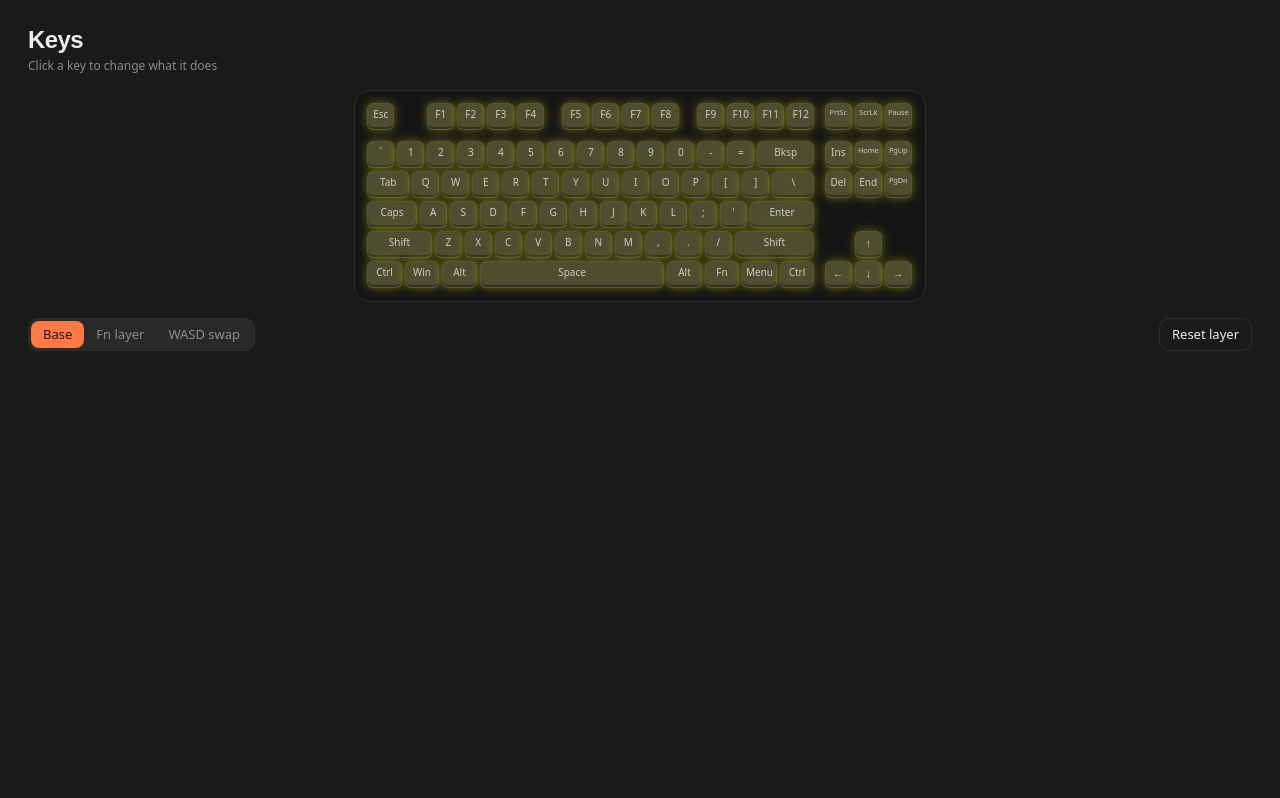
Test: the Fn key is locked on the base layer and the WASD swap, not on the Fn layer
Step 1. Click the radio button labelled "WASD swap" → (204, 334), box [156,320,252,348]
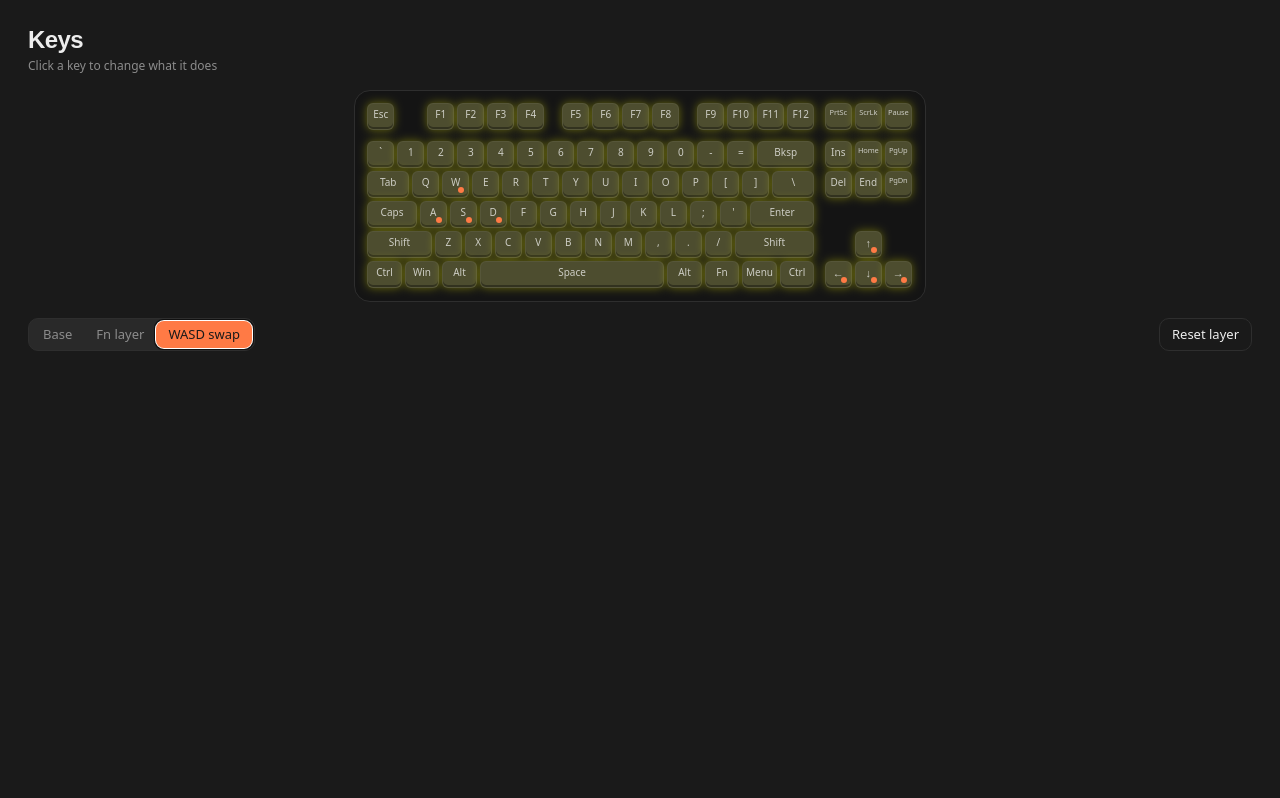
Step 2. Click the button "Fn" → (722, 274), box [705,260,739,288]
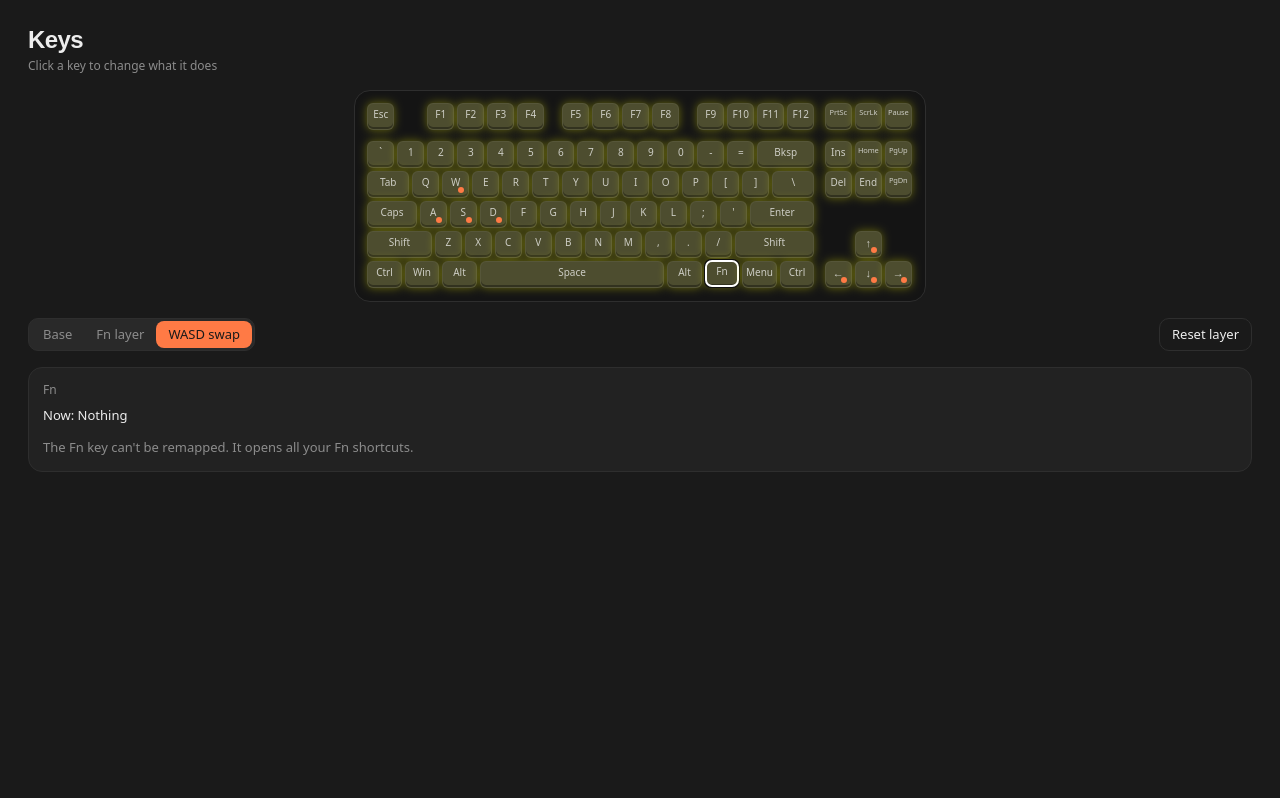
Now the text "can't be remapped" is shown, box [43,438,413,456]
Step 3. Click the radio button labelled "Fn layer" → (120, 334), box [84,320,156,348]
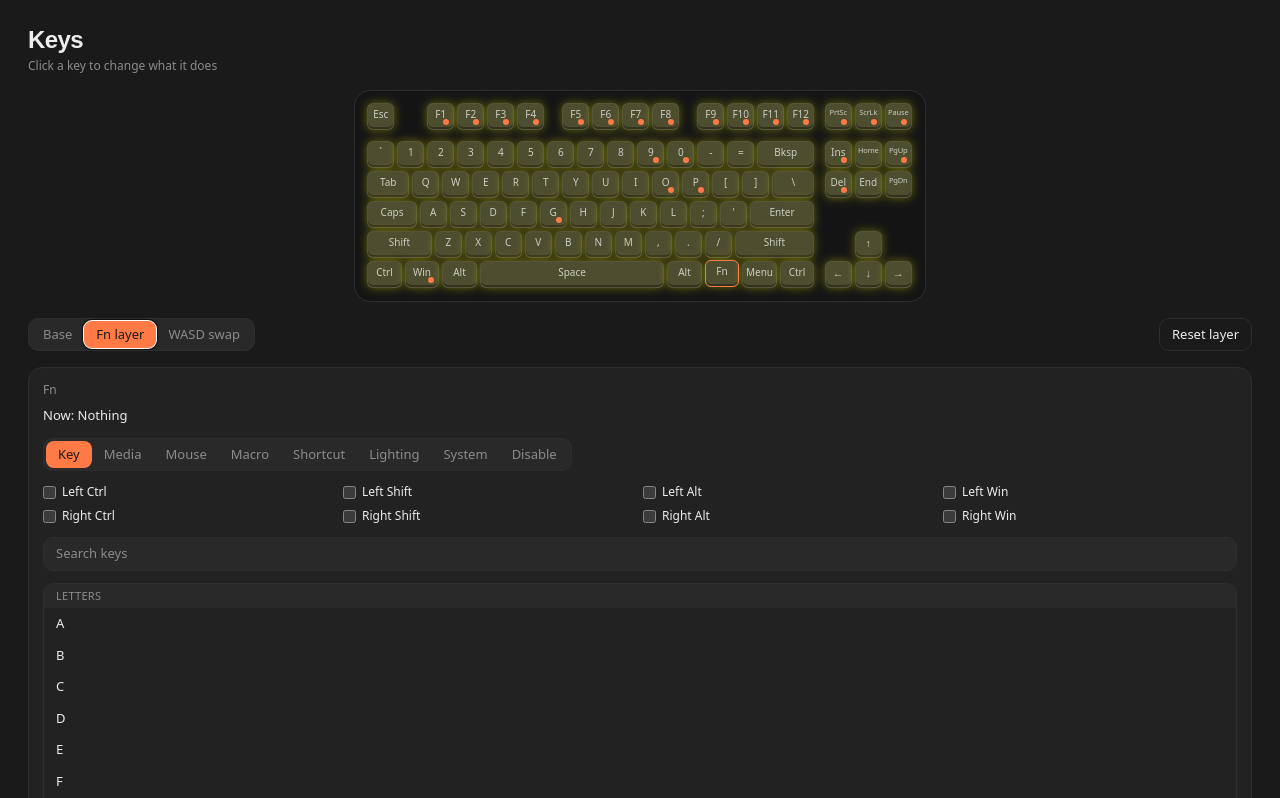
Step 4. Click the button "Fn" → (722, 273), box [705,260,739,286]
(page scrolled)
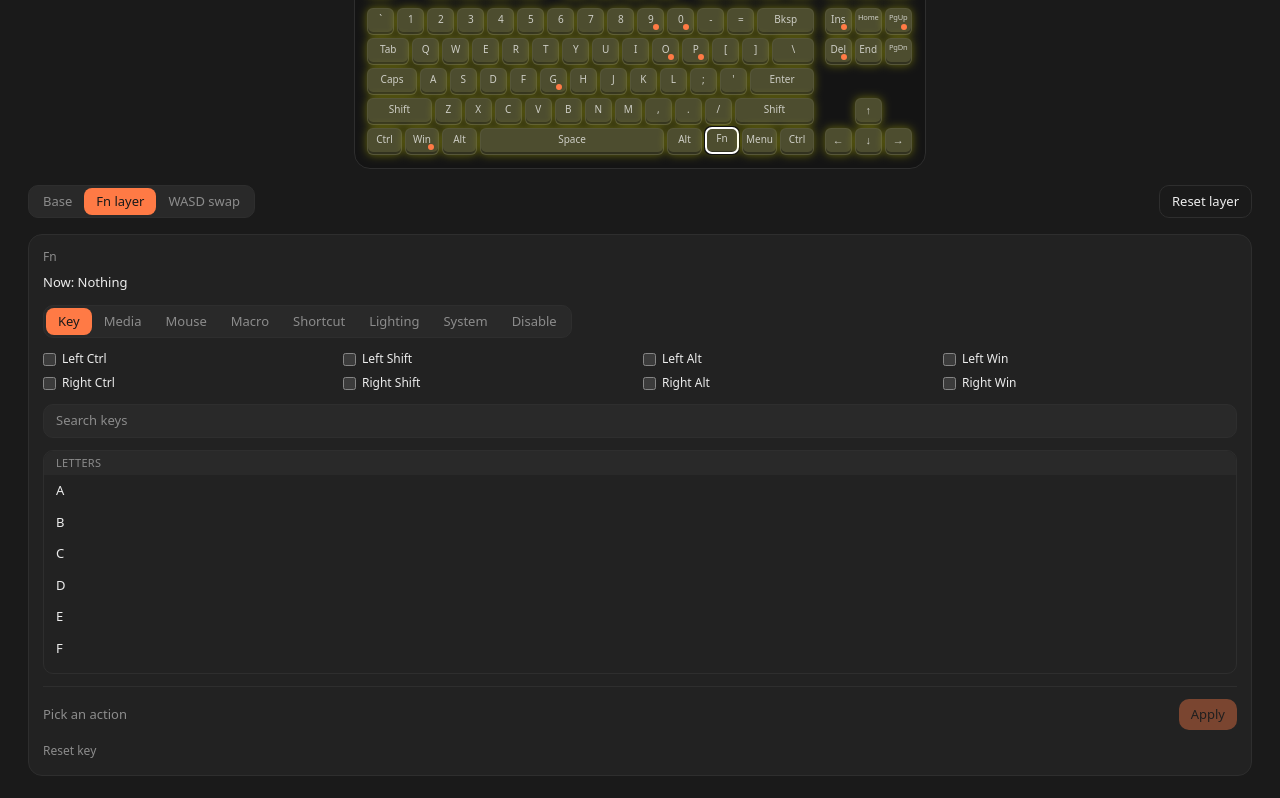
Expected: the text "can't be remapped" is not shown
Now the button "Apply" is shown, box [1179,698,1237,730]
